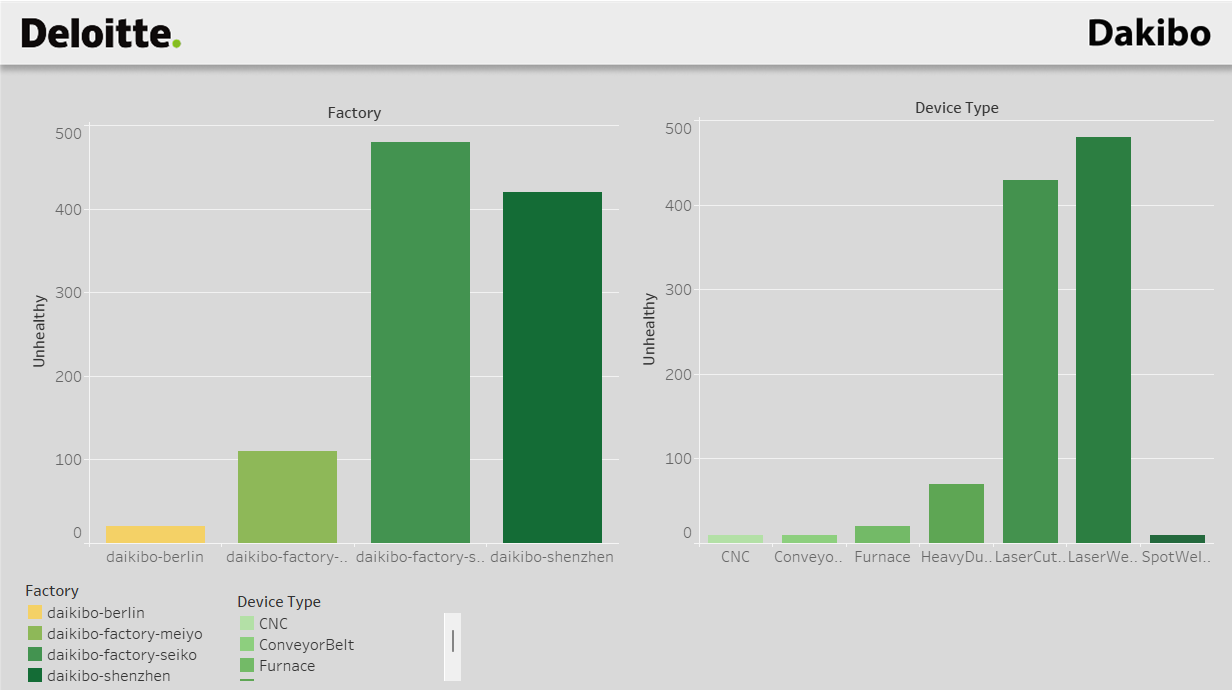

This screenshot's page, from the dashboard's own definition file:
{"tool":"tableau","page":{"name":"Dashboard 1","canvas":[1280,720],"ordinal":0},"visuals":[{"type":"image","param":"C:/Users/soubh/Downloads/OOPS/Deloitte-Virtual-Internship-Simulation/Dashboard M","box":[8,8,1264,704]},{"type":"worksheet","title":"Down Time Per Device","mark":"Automatic","rows":["Calculation_1308014234388242433"],"cols":["deviceType"],"box":[653,109,583,471]},{"type":"worksheet","title":"Down Time Per Factory","mark":"Automatic","rows":["Calculation_1308014234388242433"],"cols":["factory"],"box":[43,114,598,466]},{"type":"legend","title":"Down Time Per Factory","param":"[federated.174krq308im7h017fehf11u43wrb].[none:factory:nk]","box":[47,592,183,106]},{"type":"legend","title":"Down Time Per Device","param":"[federated.174krq308im7h017fehf11u43wrb].[none:deviceType:nk]","box":[259,603,226,90]}]}

Visuals, with their boxes in screenshot pixels (x1, y1, x2, y2), scaled from the page's 1280x720 canvas onto the 1232x690 screenshot:
image: (8, 8, 1224, 682)
"Down Time Per Device" worksheet: (629, 104, 1190, 556)
"Down Time Per Factory" worksheet: (41, 109, 617, 556)
"Down Time Per Factory" legend: (45, 567, 221, 669)
"Down Time Per Device" legend: (249, 578, 467, 664)
